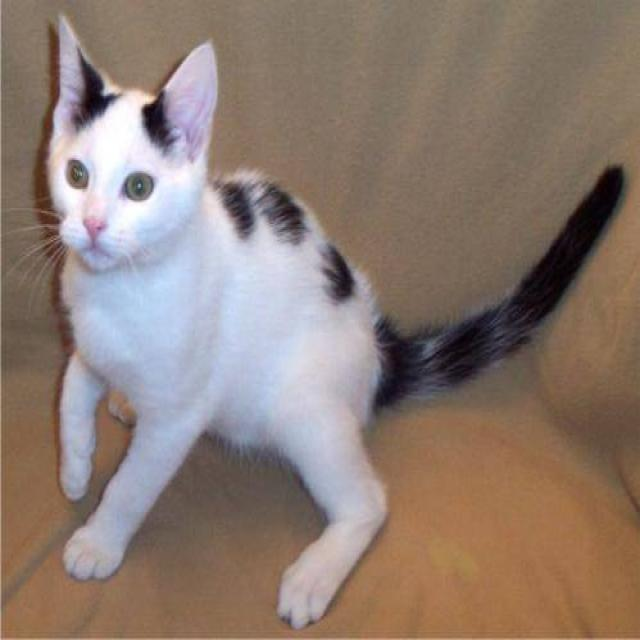cat: (4, 12, 626, 630)
